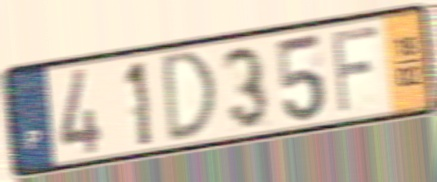1: (122, 57, 155, 149)
3: (221, 42, 272, 130)
4: (56, 63, 105, 160)
5: (273, 28, 329, 125)
D: (161, 47, 220, 147)
F: (329, 21, 382, 118)
